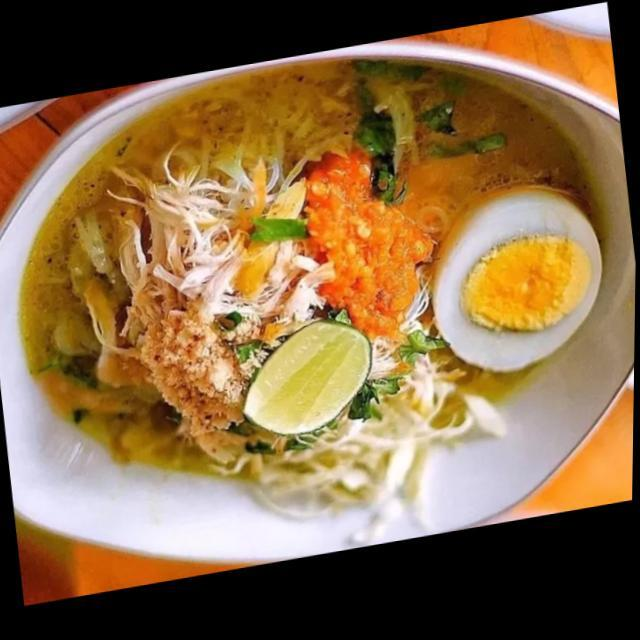Soto: (22, 58, 607, 520)
